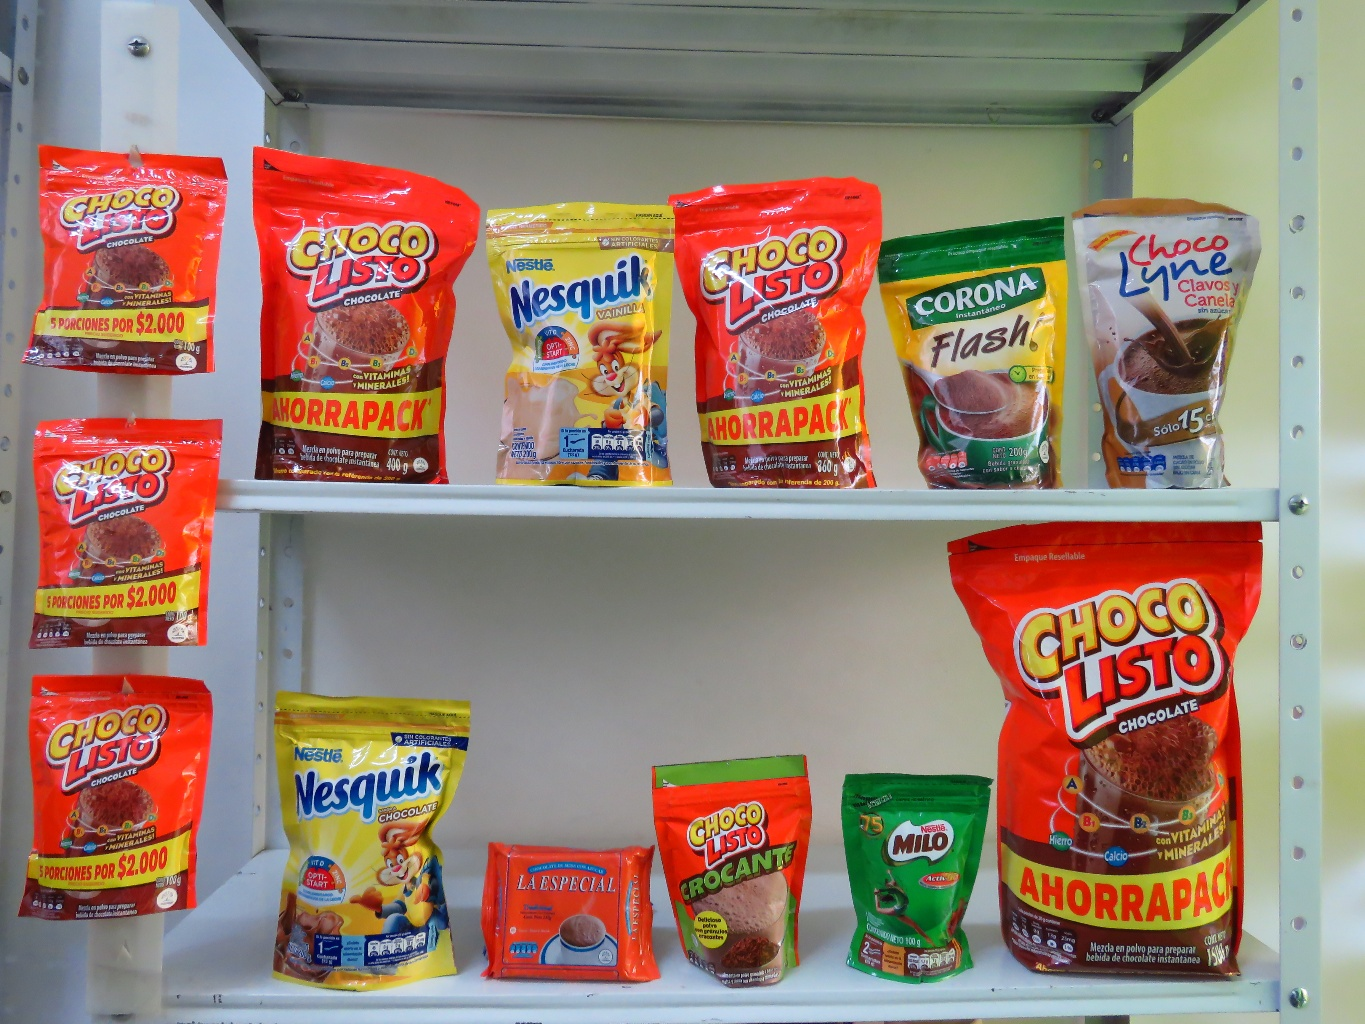COL0170102DYP10000: (654, 751, 817, 990)
COL0170103DYP1,500: (959, 515, 1289, 985)
COL0170103DYP10000: (22, 665, 212, 923)
COL0170103DYP36000: (670, 179, 875, 490)
COL0170103DYP40000: (246, 139, 468, 483)
COL0170203DYP10000: (821, 760, 996, 975)
COL0170303DYP20000: (265, 689, 470, 990)
COL0170306DYP20000: (483, 189, 686, 487)
